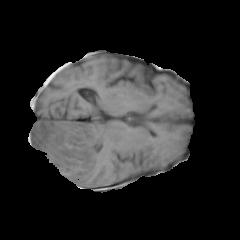glioma: (29, 122, 106, 184)
